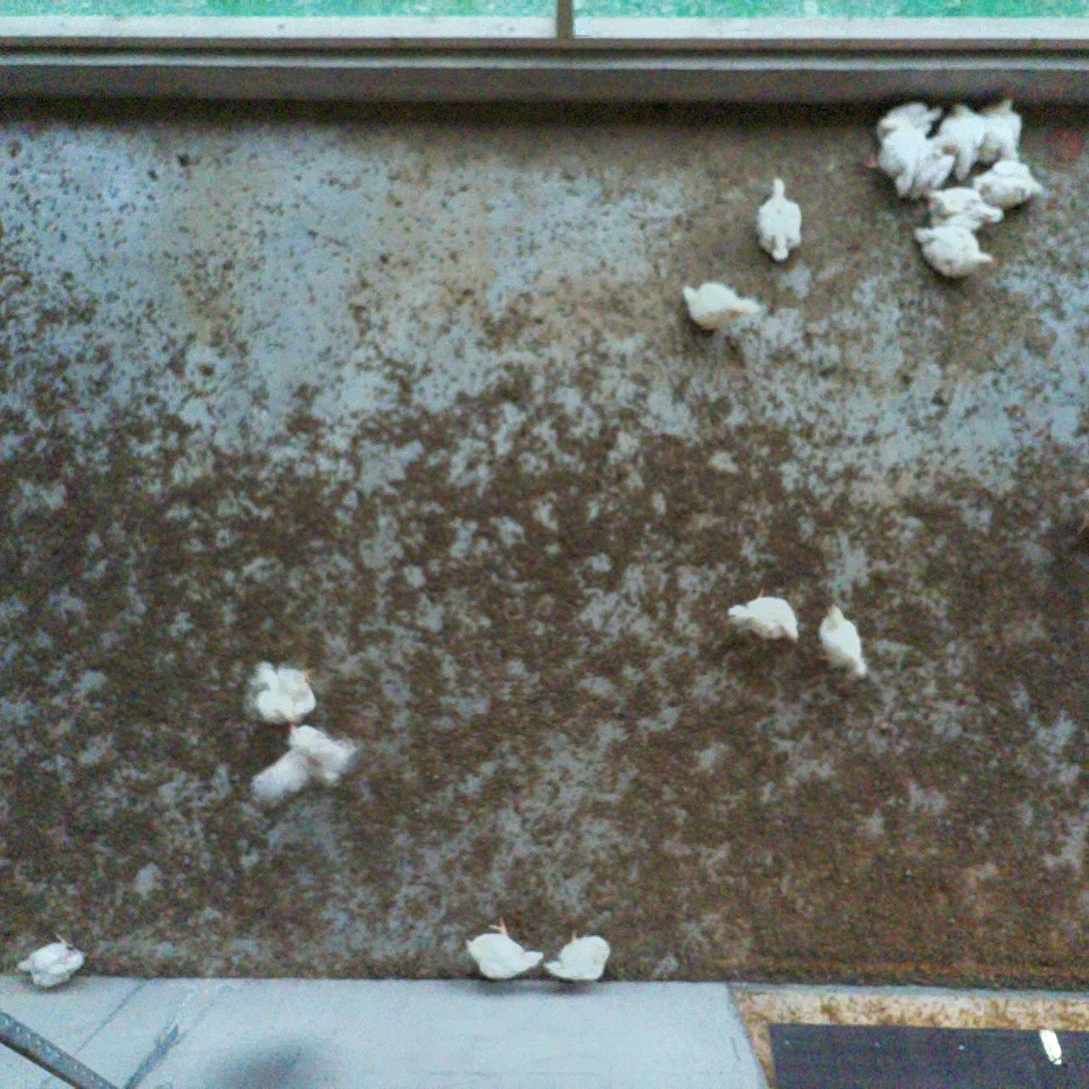chicken: (867, 125, 957, 202), (464, 917, 547, 984), (282, 714, 356, 789), (912, 220, 996, 279), (752, 174, 806, 265), (681, 275, 762, 335), (969, 90, 1031, 168), (250, 660, 318, 730), (725, 586, 800, 647), (932, 100, 988, 181), (917, 184, 1006, 234), (17, 932, 89, 993), (814, 603, 871, 680), (249, 749, 314, 813), (973, 157, 1045, 212), (543, 925, 614, 980), (904, 148, 958, 204), (873, 98, 942, 141)
